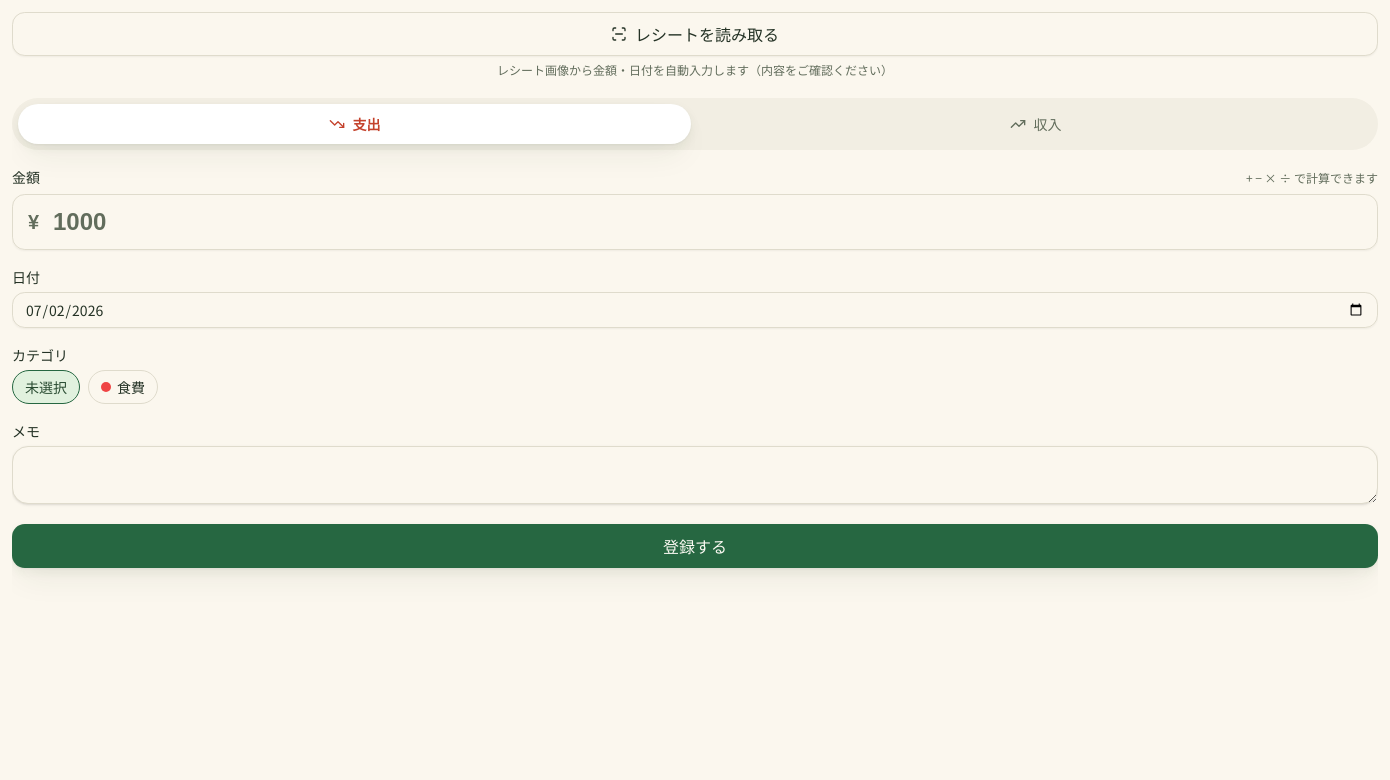
Test: TransactionForm › 評価できない式では「計算できません」を表示する
Type "1000+" into the field labelled "金額" at (695, 222), box [12, 194, 1378, 250]
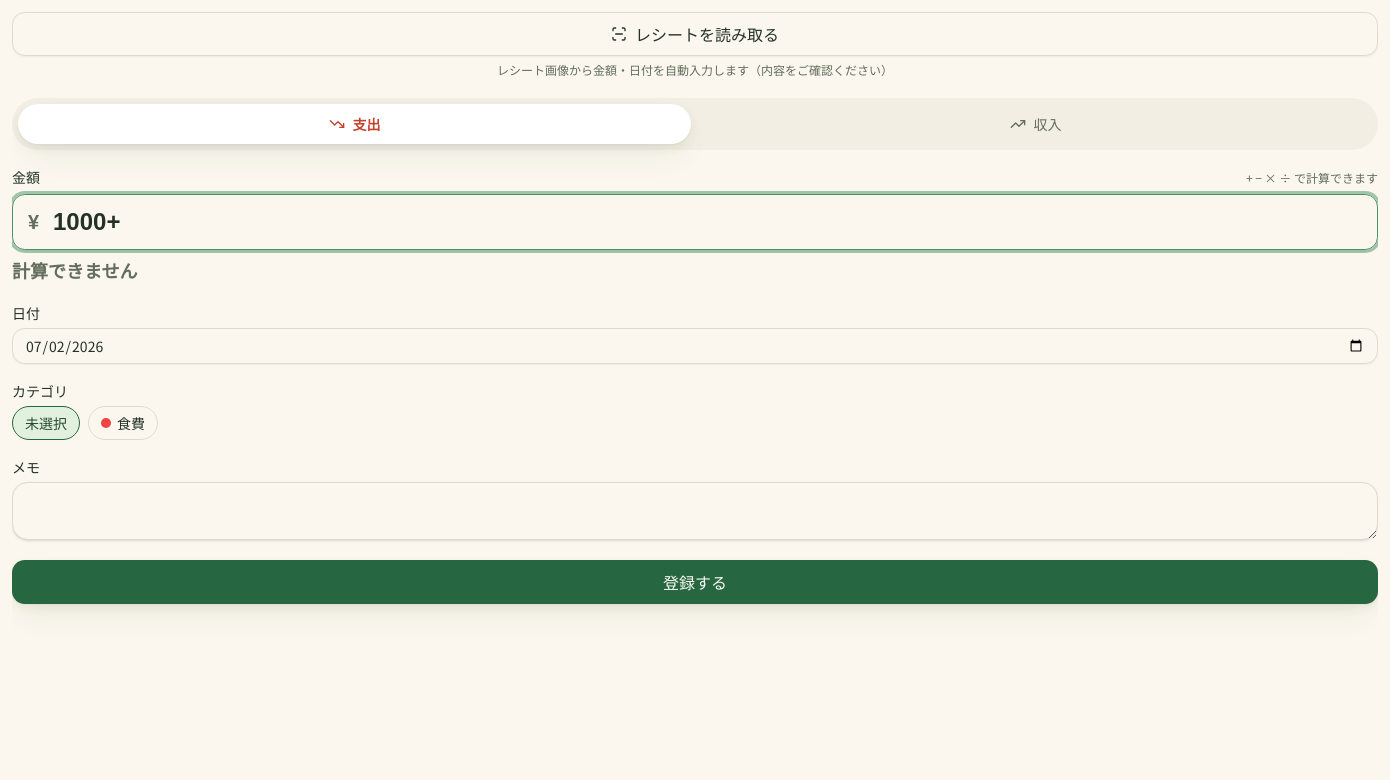
Expected: the text "計算できません" is shown, [12, 262, 138, 282]
